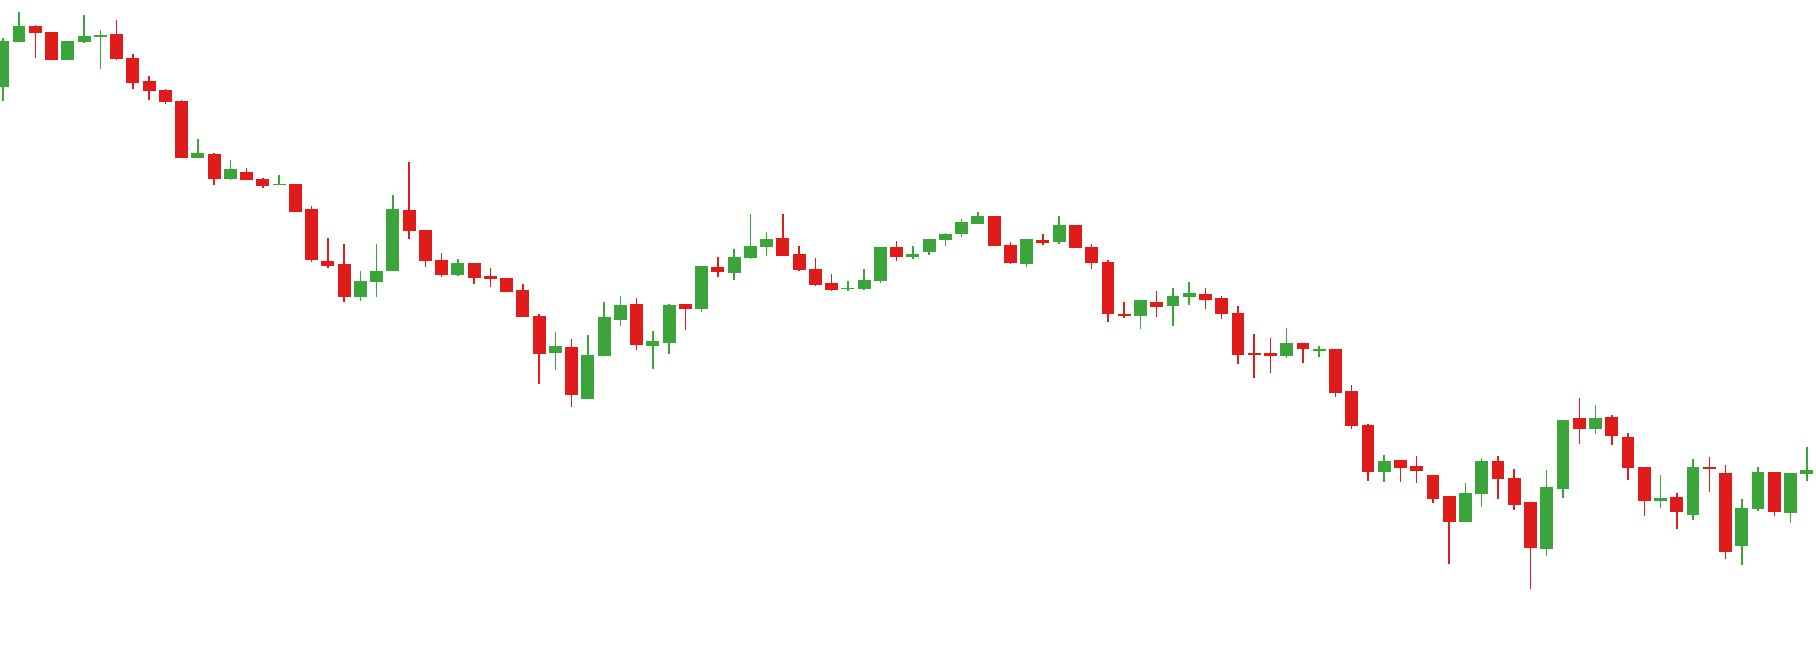buy: (1441, 482, 1539, 593)
sell: (274, 156, 418, 269)
